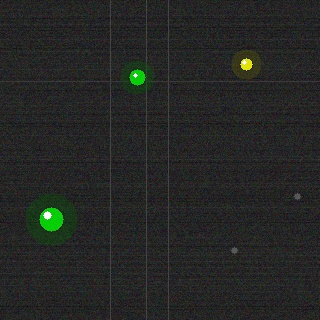green_normal: (37, 205, 65, 233), (127, 67, 147, 87)
yellow_warning: (238, 56, 254, 72)
